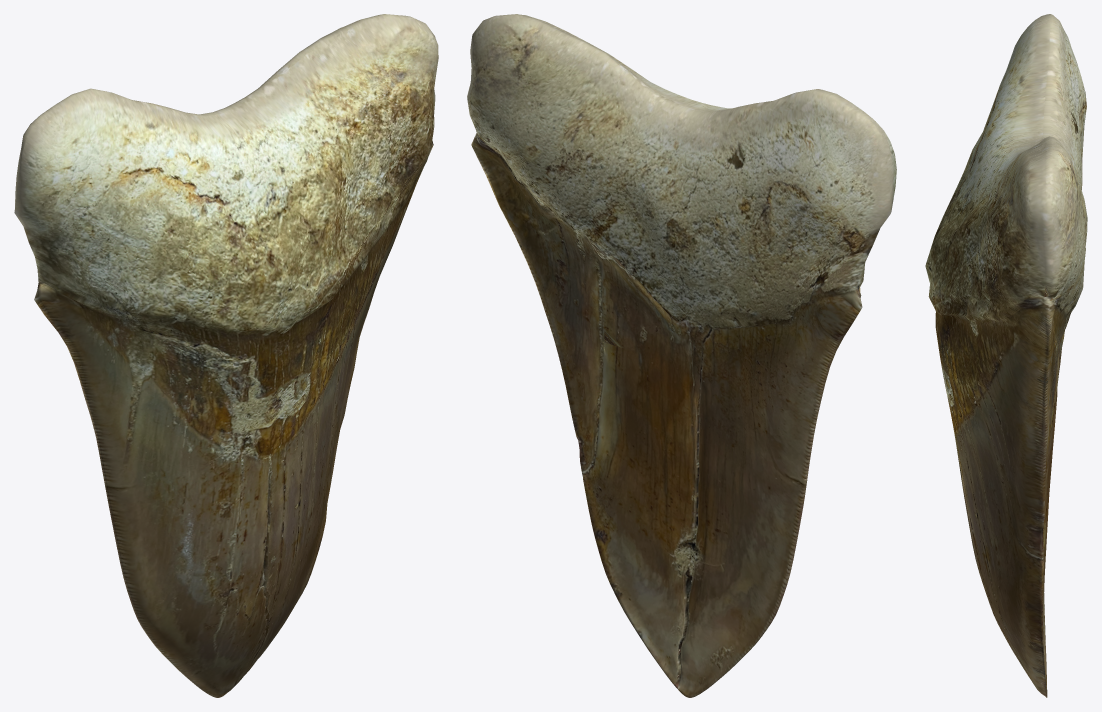
File: megalodon_teeth_fossil.glb
3 views of the same model, side by side, from view 1: azimuth 30°, elevation 25°; view 2: azimuth 150°, elevation 25°; view 3: azimuth 270°, elevation 25° (orthographic). The views are drawn at different scales.
Visible parts, largest first — view 1: megalodon_teeth_fossil; view 2: megalodon_teeth_fossil; view 3: megalodon_teeth_fossil.
Boxes of the visible parts, x1,y1,x2,y2 form: megalodon_teeth_fossil: (14, 14, 438, 697); megalodon_teeth_fossil: (467, 14, 896, 697); megalodon_teeth_fossil: (925, 14, 1087, 697).
Size of the model in its own units: 0.1178 by 0.1712 by 0.0408.
1 material, 1 textured.
